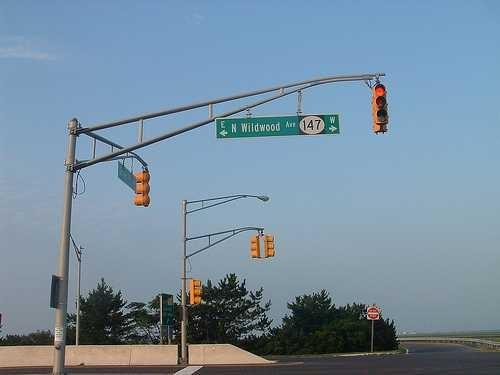red: (372, 83, 390, 133), (374, 84, 387, 96)
